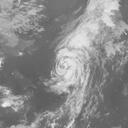cyclone: (48, 45, 90, 95)
